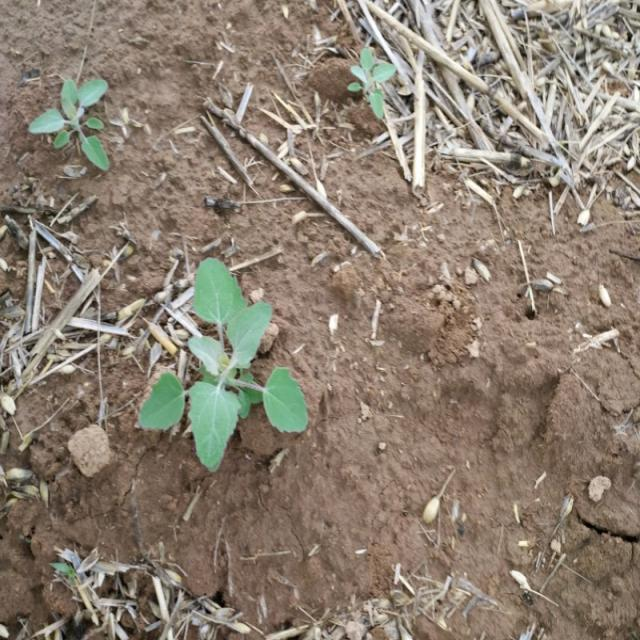goosefoots: (141, 269, 310, 466)
